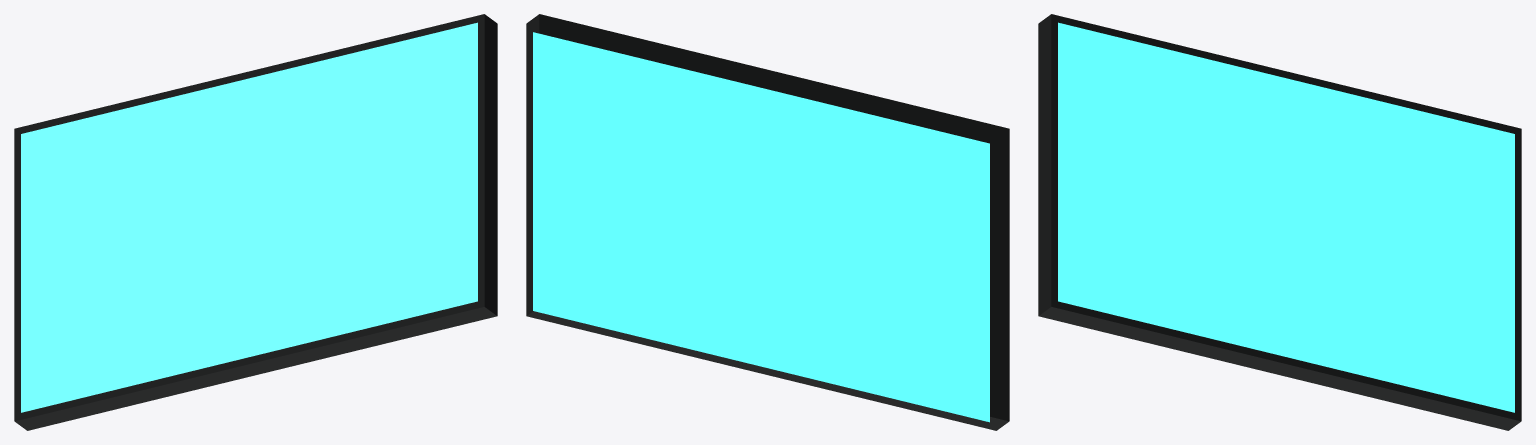
Rendered from Screen_2_LODGroup.fbx.
3 views of the same model, side by side, from view 1: azimuth 30°, elevation 25°; view 2: azimuth 150°, elevation 25°; view 3: azimuth 330°, elevation 25° (orthographic).
Visible parts, largest first — view 1: Screen 2_LOD0; view 2: Screen 2_LOD0; view 3: Screen 2_LOD0.
Part boxes in pixels (x1,y1,x2,y2): Screen 2_LOD0: (14, 14, 497, 430); Screen 2_LOD0: (526, 14, 1009, 430); Screen 2_LOD0: (1038, 14, 1521, 430).
Size of what is drawn, in the model's own units: 2.77 by 1.65 by 0.1329.
